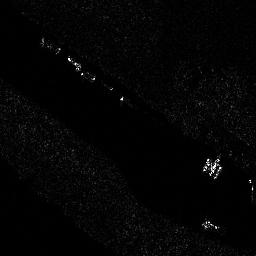ship: (67, 55, 97, 84), (202, 152, 224, 182), (39, 35, 61, 55)
